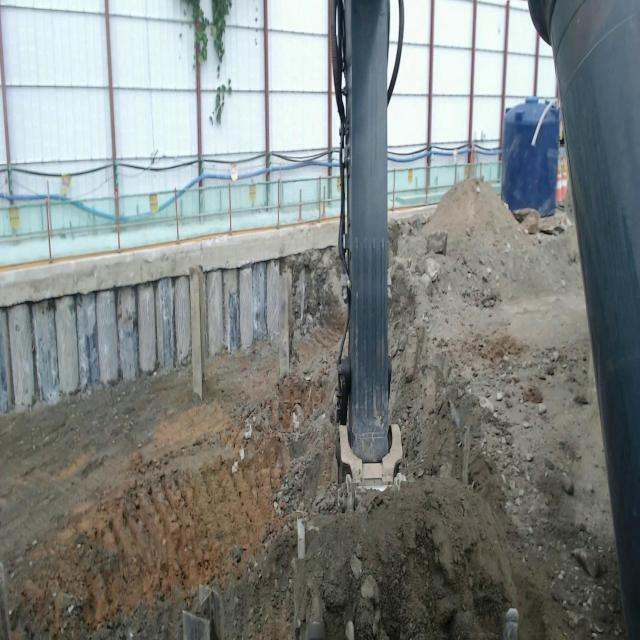white-sand: (0, 319, 339, 639), (389, 180, 624, 639), (292, 478, 549, 639)
